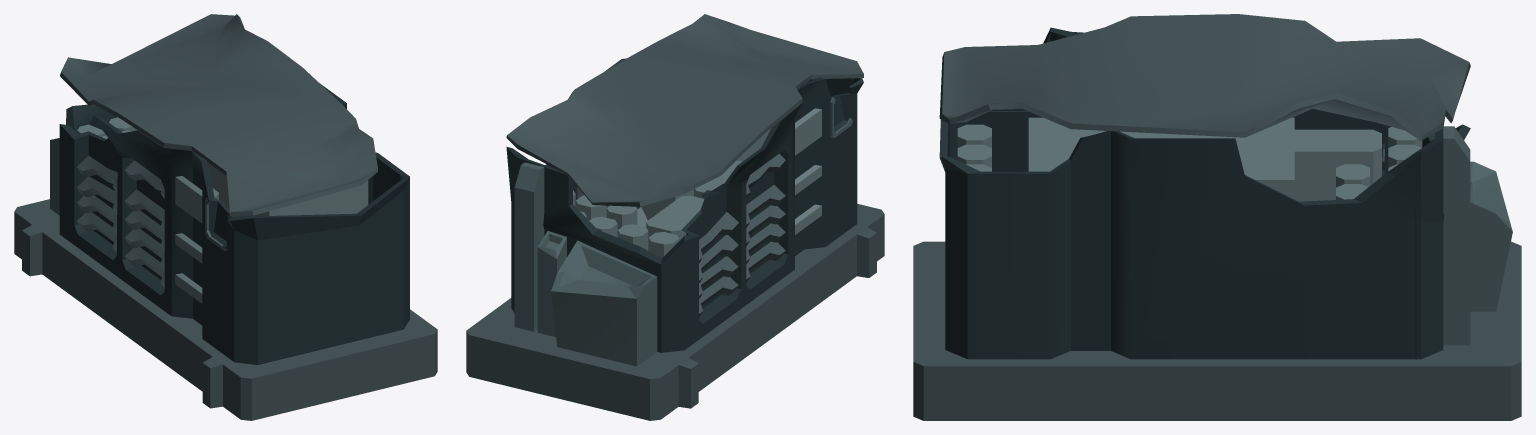
Rendered from SM_Gene_Dmg.fbx.
3 views of the same model, side by side, from view 1: azimuth 30°, elevation 25°; view 2: azimuth 150°, elevation 25°; view 3: azimuth 270°, elevation 25° (orthographic). The views are drawn at different scales.
Visible parts, largest first — view 1: SM_Gene_Dmg; view 2: SM_Gene_Dmg; view 3: SM_Gene_Dmg.
Part boxes in pixels (box(x1,y1,x2,y2)): SM_Gene_Dmg: box(14, 14, 437, 420); SM_Gene_Dmg: box(466, 14, 884, 420); SM_Gene_Dmg: box(913, 14, 1521, 420).
Bounding box in the file's own units: 134 × 145 × 262.
Materials: 1 (1 with a texture image).
